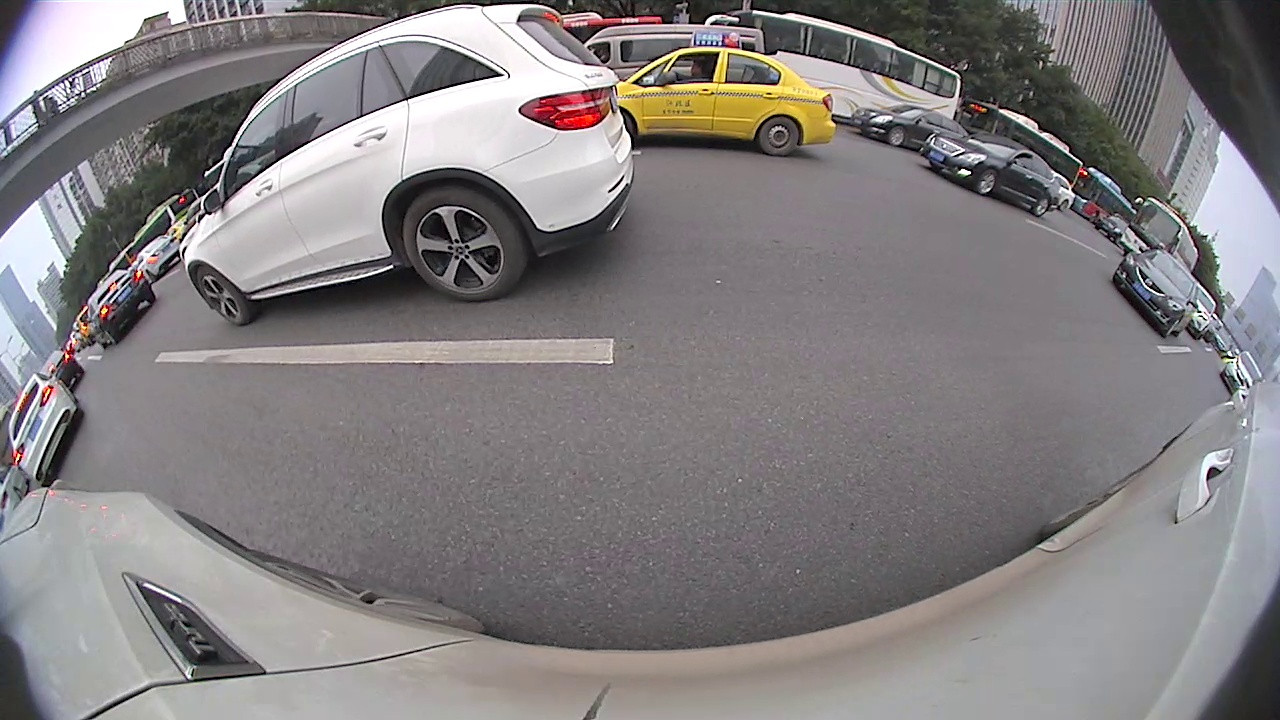bus: (702, 8, 963, 132), (947, 95, 1083, 194), (1118, 196, 1199, 273), (1070, 166, 1139, 238)
car: (178, 3, 638, 326), (610, 45, 838, 159), (571, 19, 766, 87), (920, 132, 1065, 218), (6, 371, 85, 490), (1110, 247, 1202, 340), (83, 268, 155, 347), (846, 107, 971, 148), (1218, 347, 1263, 398), (132, 237, 185, 276), (1183, 279, 1218, 336)
front: (196, 268, 250, 328), (976, 169, 997, 194), (889, 126, 904, 147)
rear: (403, 187, 522, 303), (757, 115, 798, 156), (1033, 195, 1049, 217)
